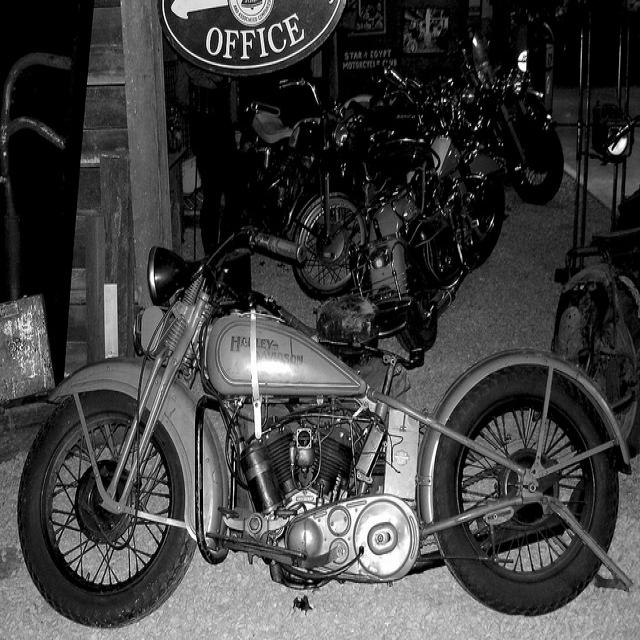Motorbike: (39, 262, 607, 640), (250, 71, 525, 384)
